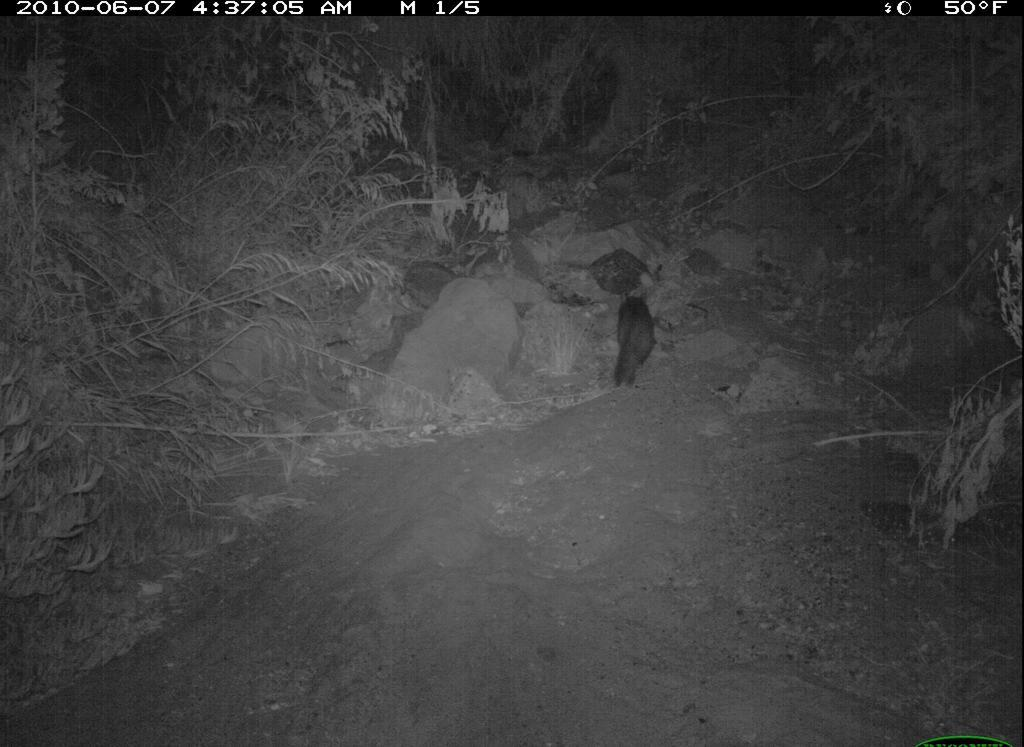cat: (605, 276, 665, 390)
